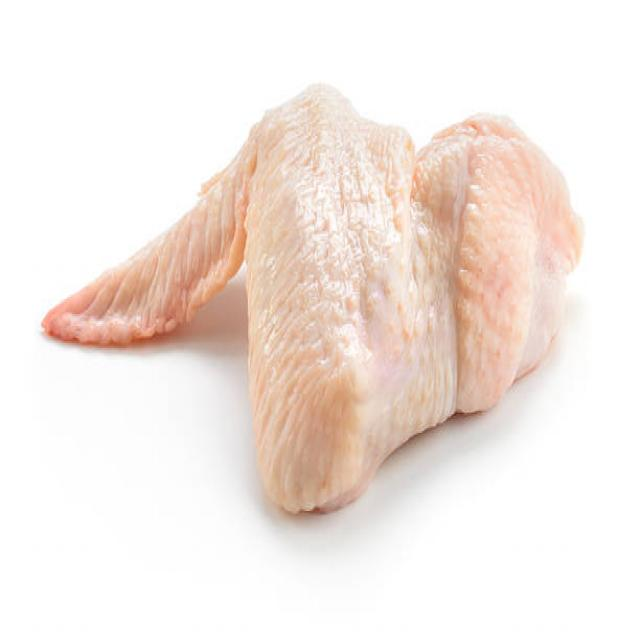chicken: (36, 79, 587, 521)
